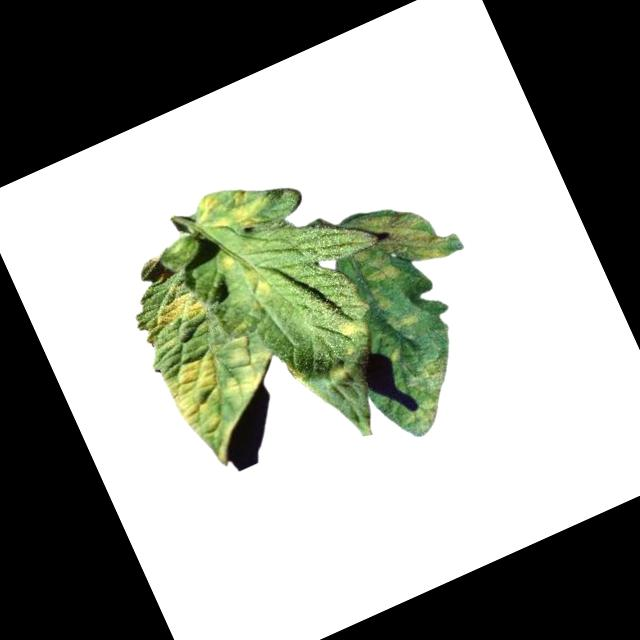Leaf_Mold: (154, 324, 301, 467), (337, 184, 452, 294), (189, 170, 278, 247), (389, 353, 470, 433), (150, 287, 211, 338), (239, 262, 276, 308), (329, 315, 369, 346), (210, 245, 244, 281), (319, 354, 354, 388), (385, 306, 420, 335), (384, 347, 403, 366)
